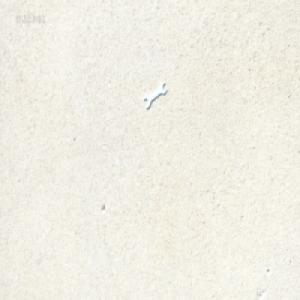Wrench: (143, 79, 167, 109)
